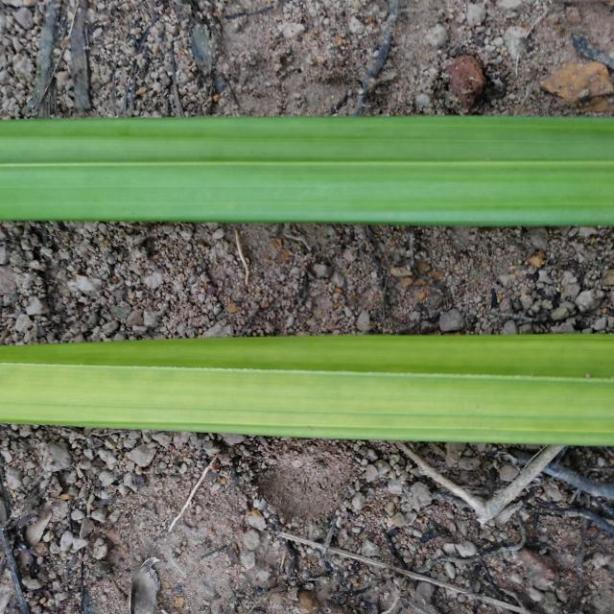nitrogen: (0, 336, 614, 446), (3, 116, 614, 225)
